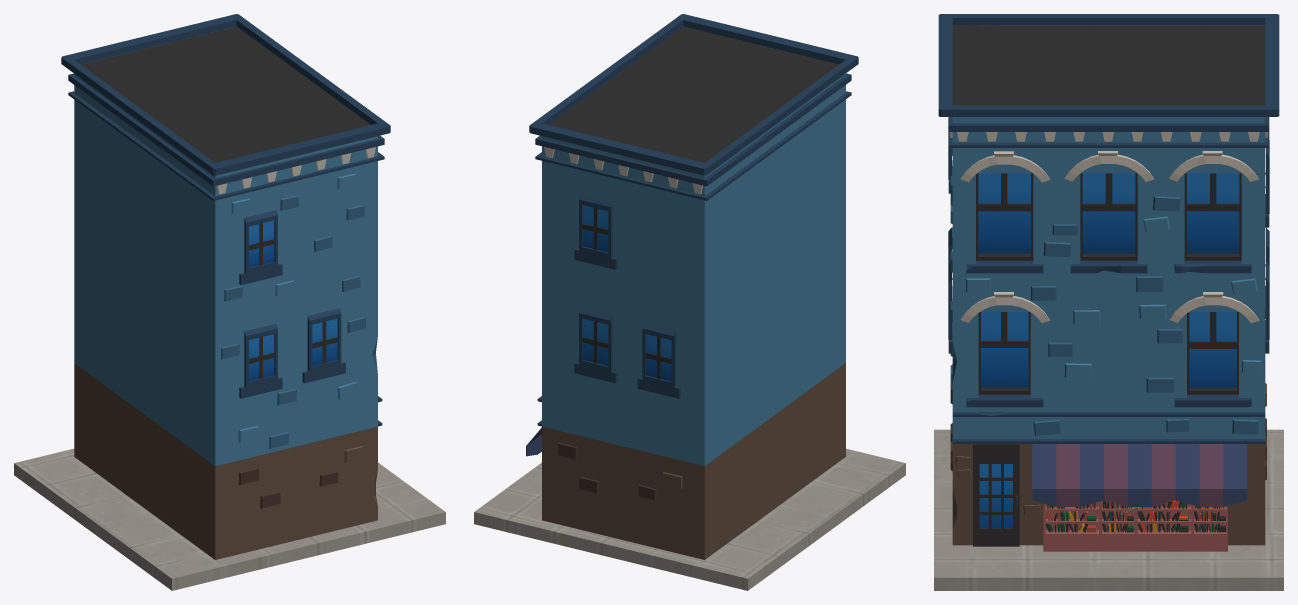
File: Book_shop_01.fbx
3 views of the same model, side by side, from view 1: azimuth 30°, elevation 25°; view 2: azimuth 150°, elevation 25°; view 3: azimuth 270°, elevation 25° (orthographic). The views are drawn at different scales.
Parts seen in each view (by area): view 1: Book_shop_01; view 2: Book_shop_01; view 3: Book_shop_01.
Boxes of the visible parts, x1,y1,x2,y2 form: Book_shop_01: (14,14,445,590); Book_shop_01: (474,14,905,590); Book_shop_01: (934,14,1283,590).
Bounding box in the file's own units: 1200 × 1714 × 1200.
